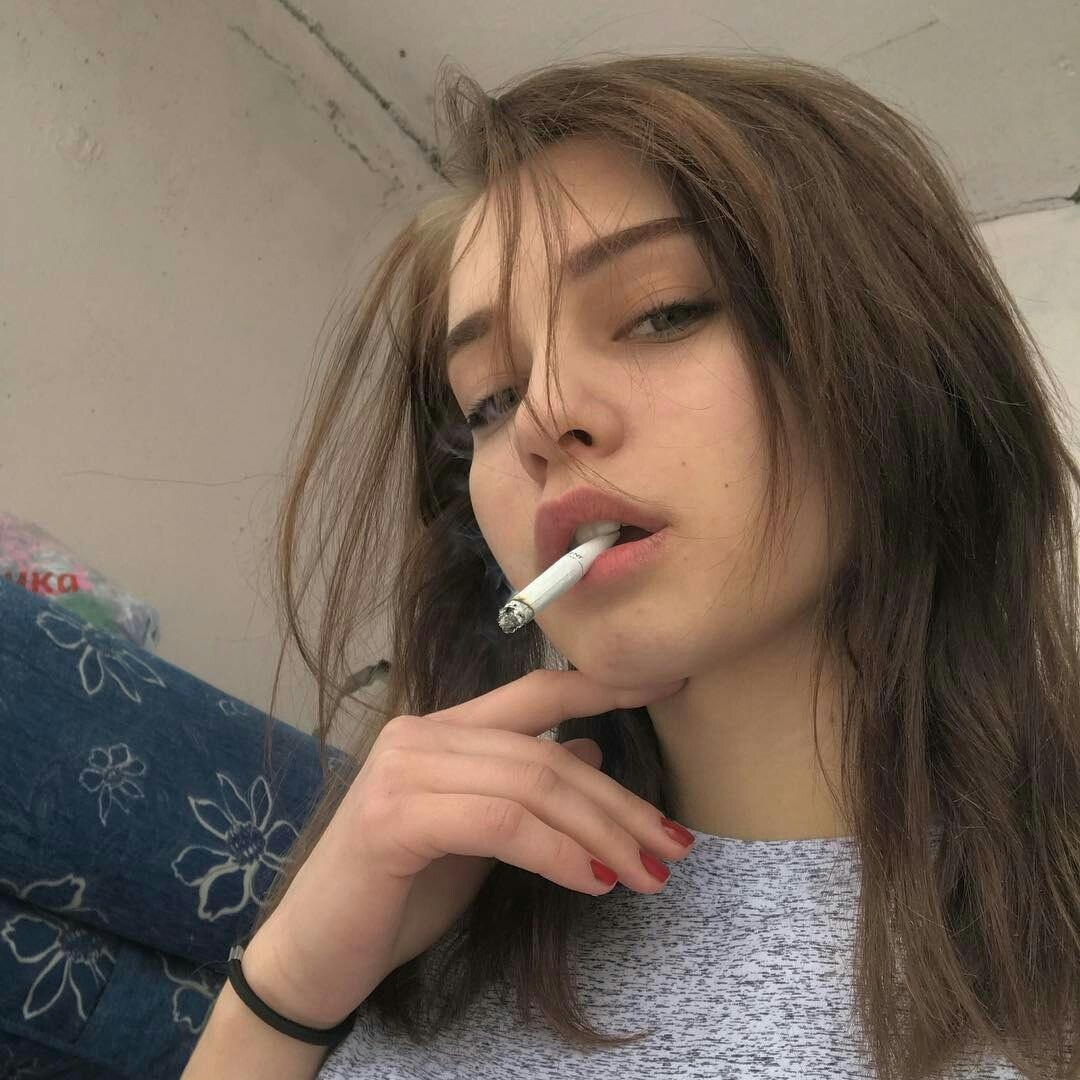cigarette: (496, 532, 621, 633)
